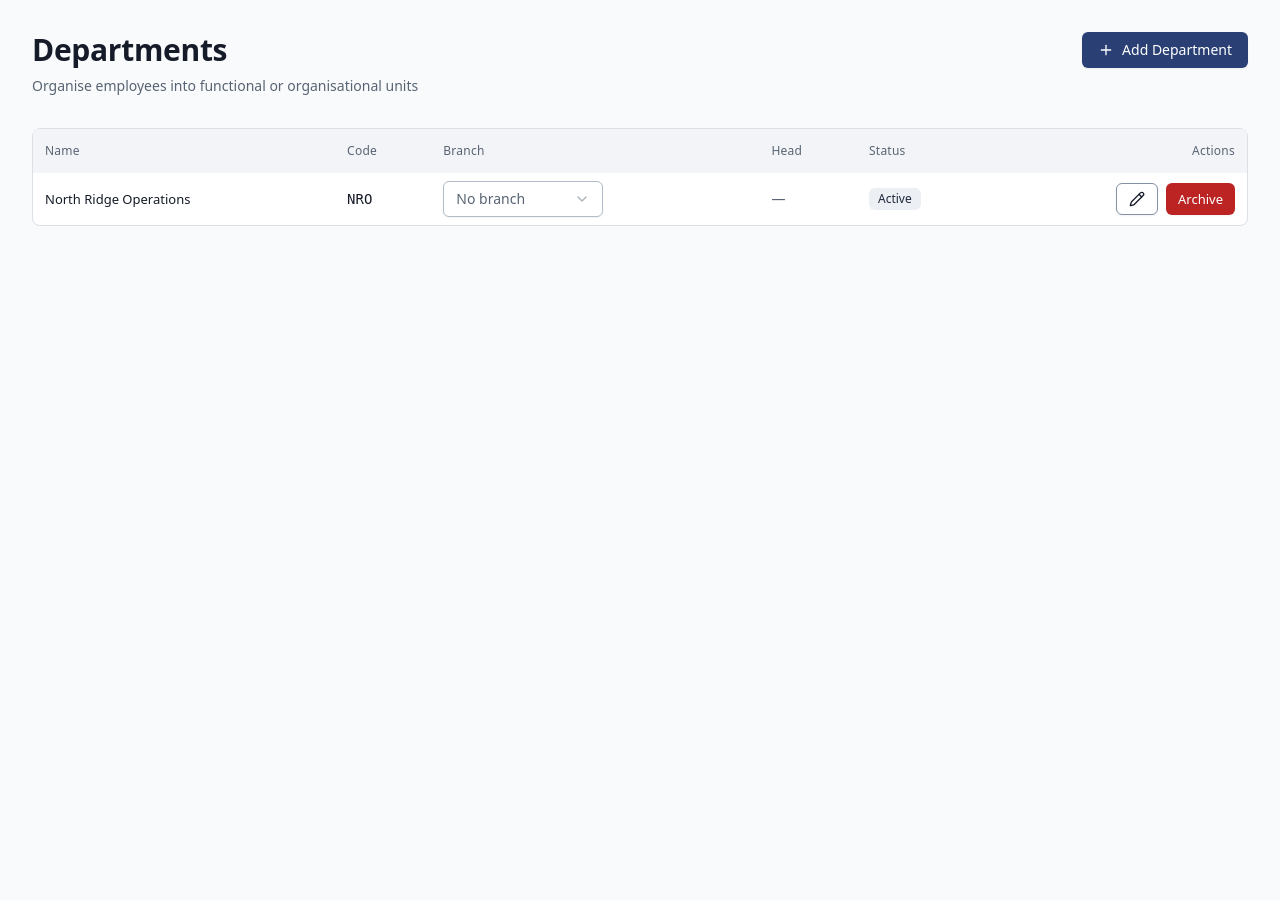
Test: Destructive department actions require confirmation › archiving asks first, then archives exactly once and closes on success
Click the button "Archive".
click(1200, 199)  # box [1166,183,1235,215]
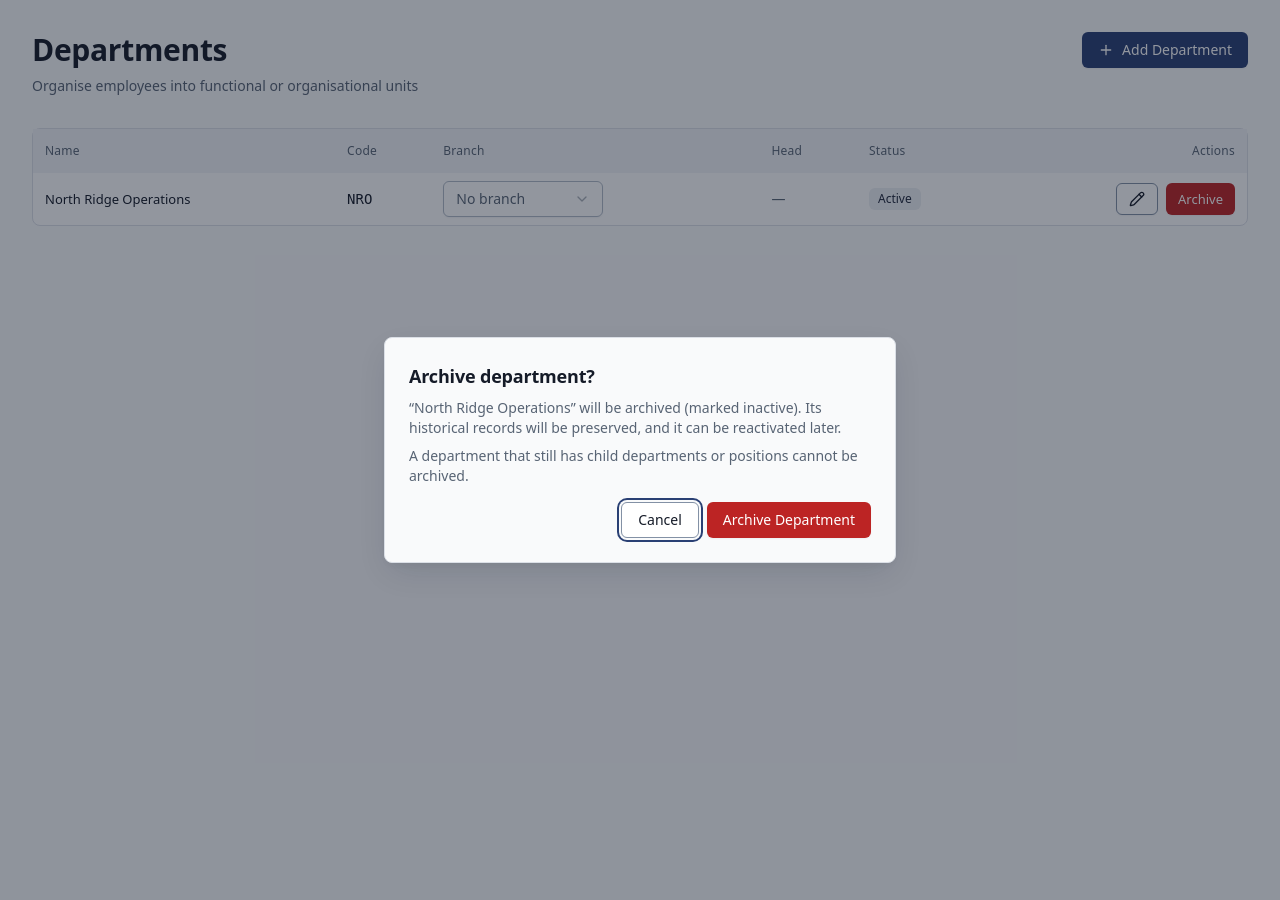
Check: the dialog with test id "dialog-department-status" shows "Archive department?", box [409,364,595,388]
Check: the dialog with test id "dialog-department-status" shows "“North Ridge Operations” will be archived (marked inactive)", box [384,337,896,563]
Click the button "Cancel".
click(660, 520)  # box [621,502,699,538]
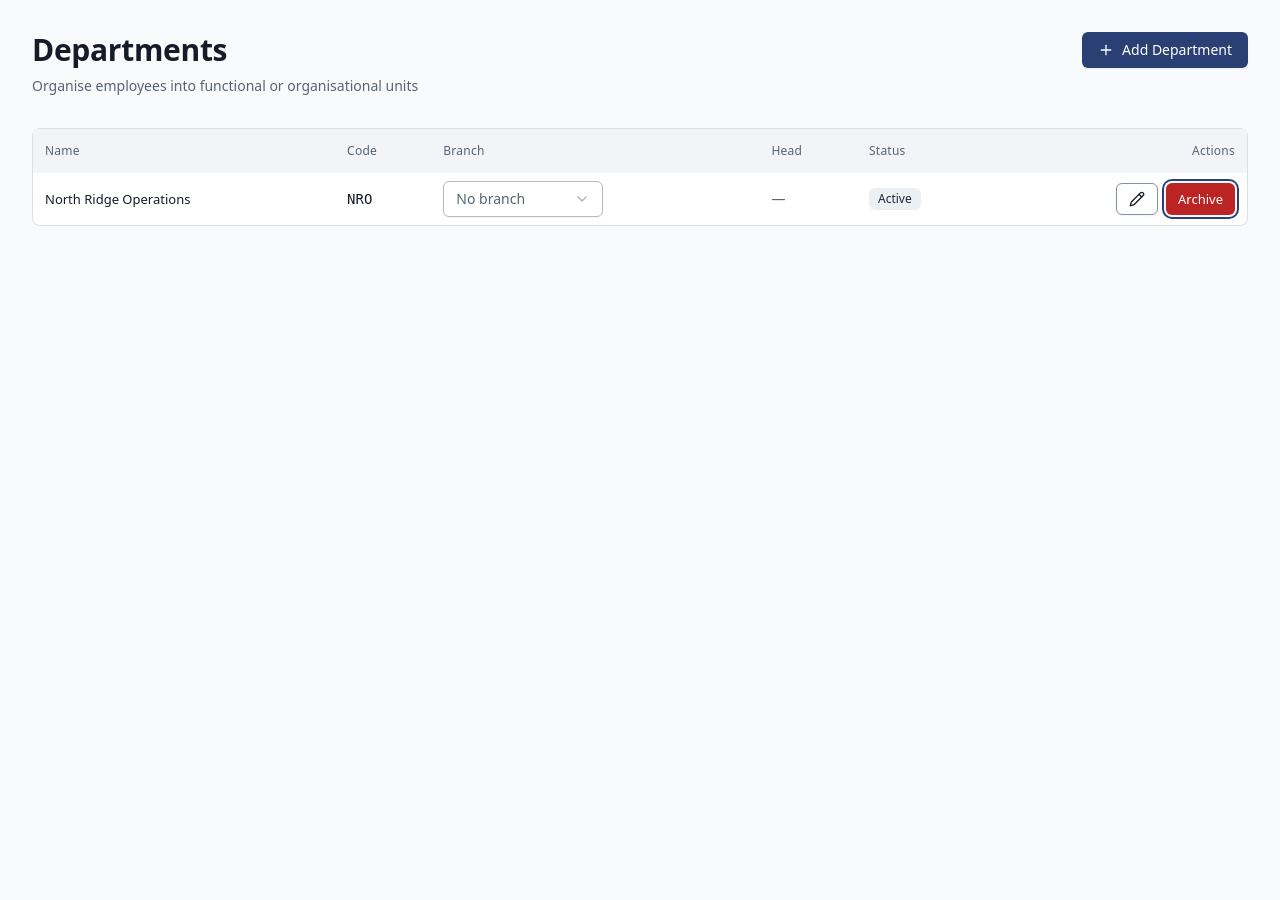
Check: the dialog with test id "dialog-department-status" is gone
Click the button "Archive".
click(1200, 199)  # box [1166,183,1235,215]
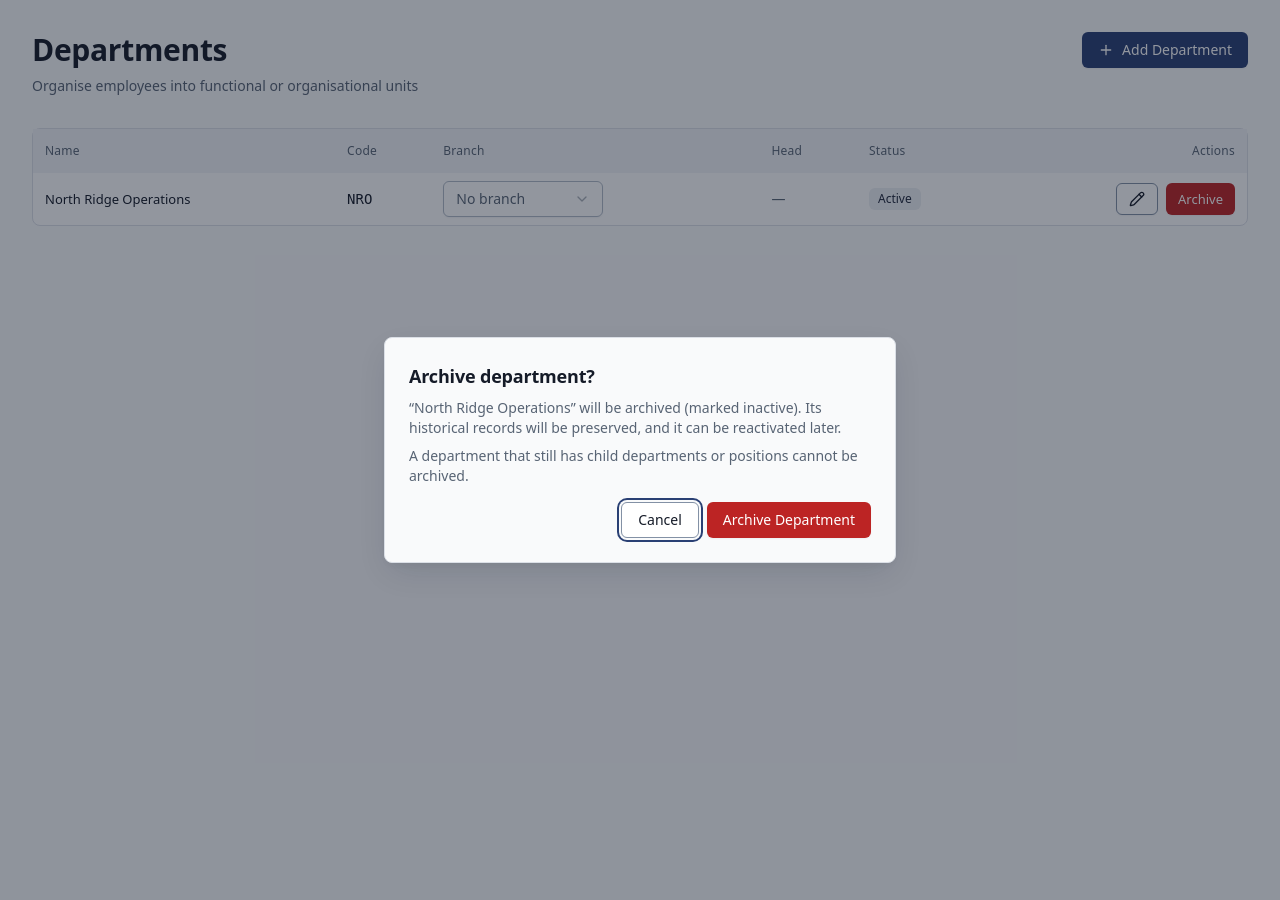
Click the button "Archive Department".
click(789, 520)  # box [707,502,871,538]
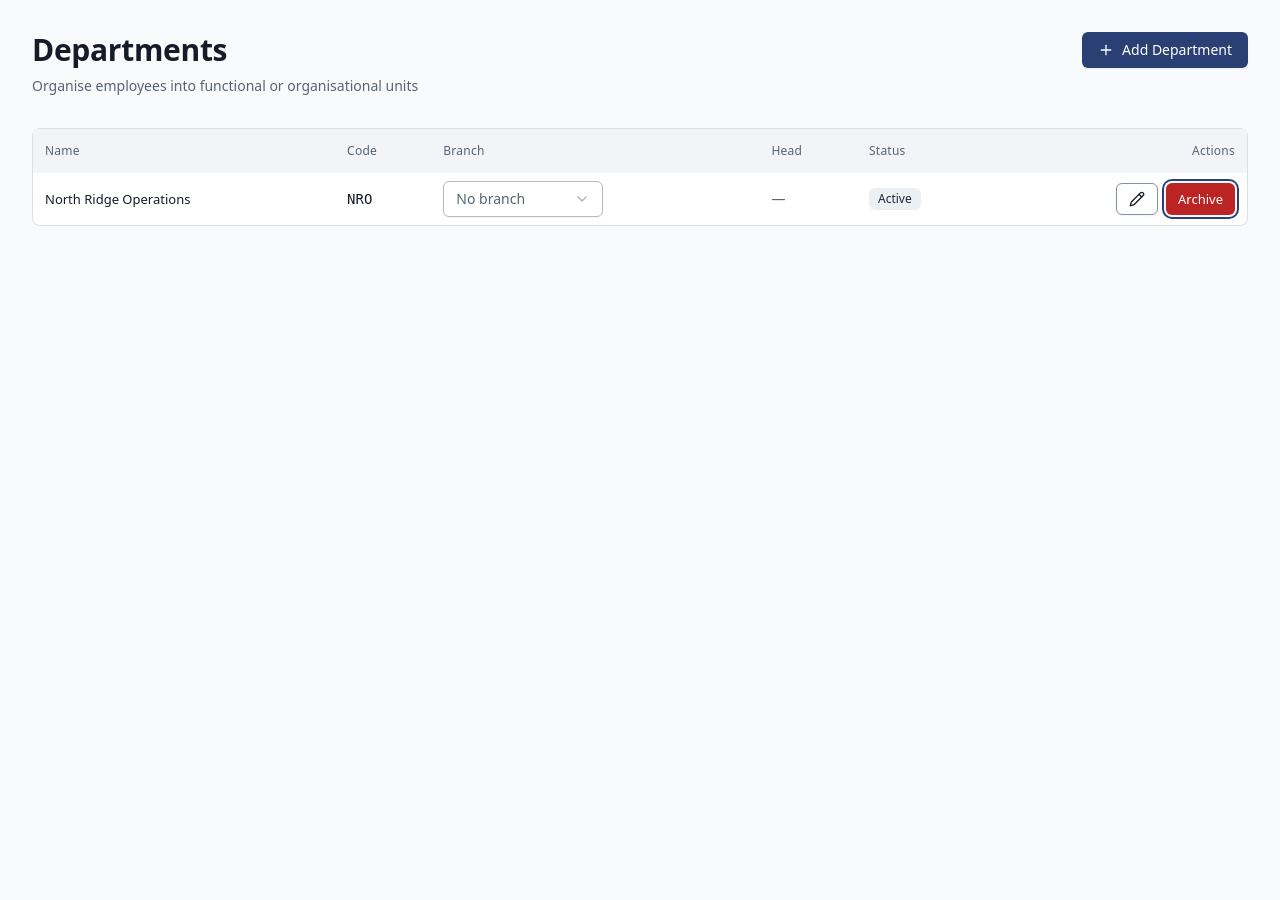
Check: the dialog with test id "dialog-department-status" is gone
